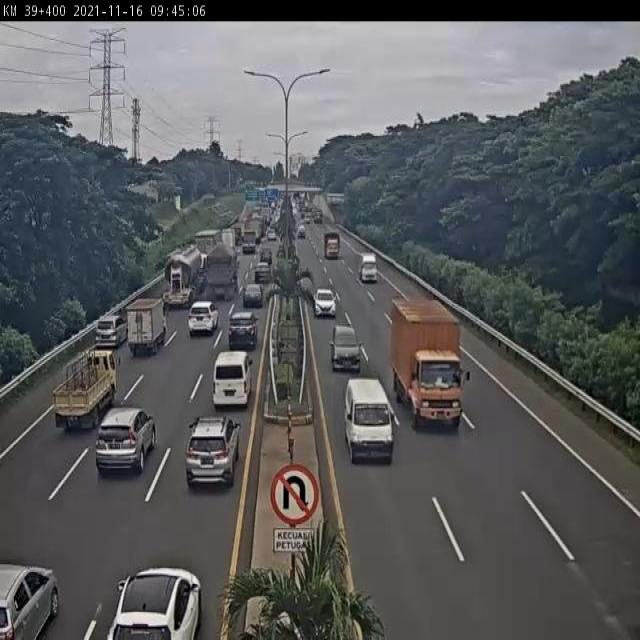Car: (104, 566, 202, 640), (1, 564, 59, 640), (96, 407, 156, 478), (185, 414, 242, 488), (329, 324, 362, 373), (94, 314, 128, 350), (228, 311, 259, 349), (188, 300, 220, 336), (313, 288, 337, 318), (242, 283, 264, 308), (254, 262, 272, 284), (242, 238, 256, 254), (260, 247, 272, 264), (266, 228, 276, 241), (297, 225, 306, 238), (304, 214, 311, 225)
Truck: (388, 297, 468, 427), (54, 351, 120, 431), (128, 297, 166, 353), (205, 243, 239, 296), (359, 253, 377, 282), (323, 233, 341, 259)
Van: (343, 378, 394, 464), (211, 349, 252, 407)
